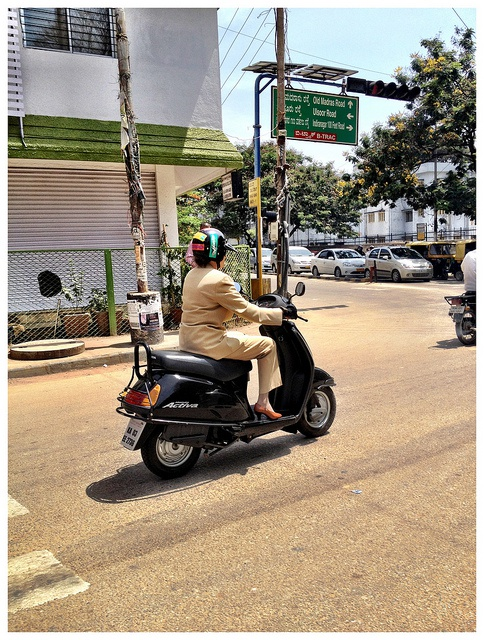non-vehicle: (115, 281, 336, 479), (444, 291, 476, 345)
